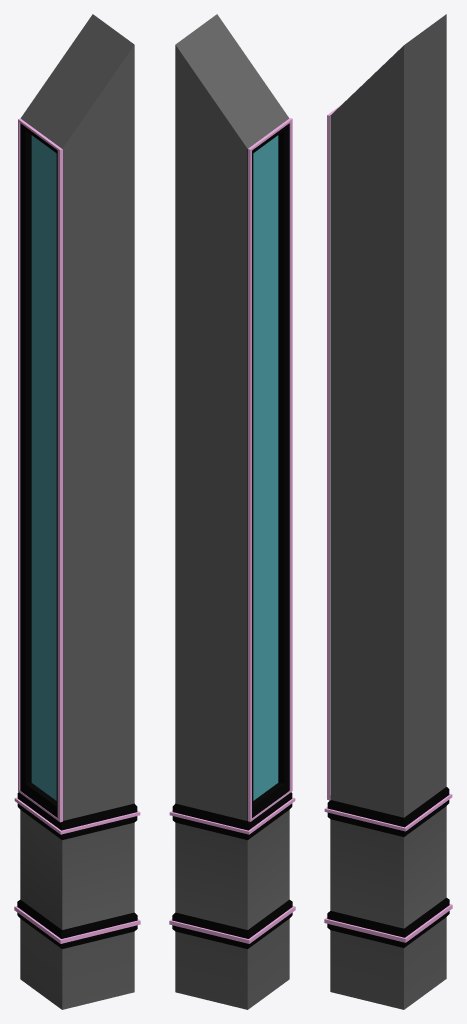
File: SM_Environment_Buildings_Tall_01.fbx
The picture shows the model from 3 angles, left to right: view 1: azimuth 30°, elevation 25°; view 2: azimuth 150°, elevation 25°; view 3: azimuth 330°, elevation 25°; orthographic projection.
Parts seen in each view (by area): view 1: SM_Environment_Buildings_Tall_01, Lights; view 2: SM_Environment_Buildings_Tall_01, Lights; view 3: SM_Environment_Buildings_Tall_01, Lights.
Part boxes in pixels (x1,y1,x2,y2): SM_Environment_Buildings_Tall_01: (17,14,137,1009); Lights: (14,118,140,943); SM_Environment_Buildings_Tall_01: (172,14,292,1009); Lights: (169,118,295,943); SM_Environment_Buildings_Tall_01: (327,14,449,1009); Lights: (324,105,452,942).
Size of the model in its own units: 6.63 by 75.05 by 6.63.
